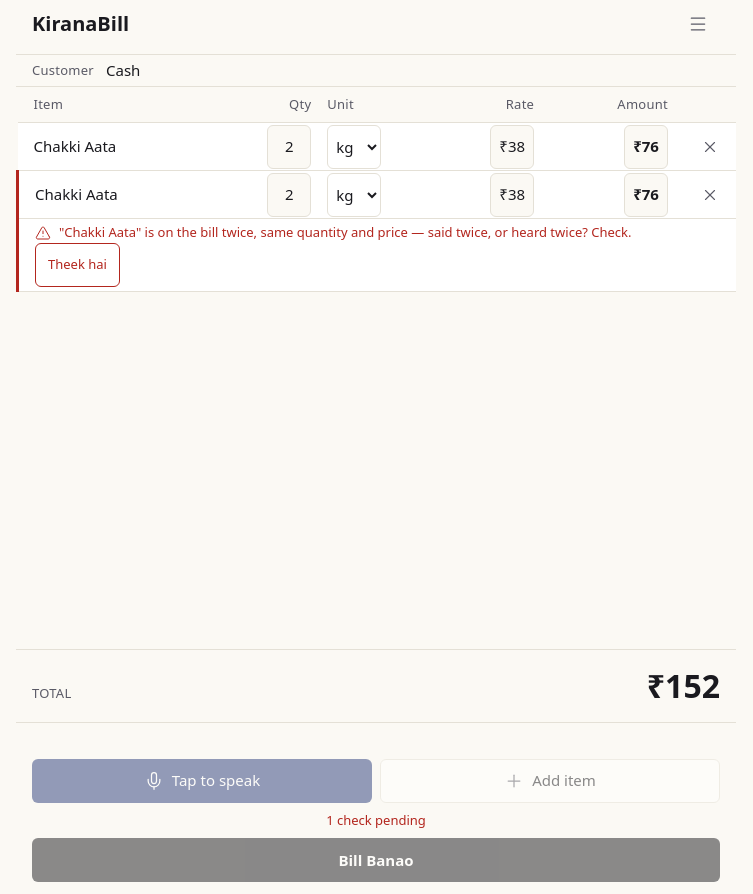
Test: KB-304 - HIGH: inline sentence, icon, 'Theek hai', blocks until acknowledged › 'Theek hai' (KB-363b): pending 0; the warning COLLAPSES to a tiny ✓ - the line looks normal; the detail opens on a tap
Click the button "Theek hai": (77, 264) [35,242,120,286]
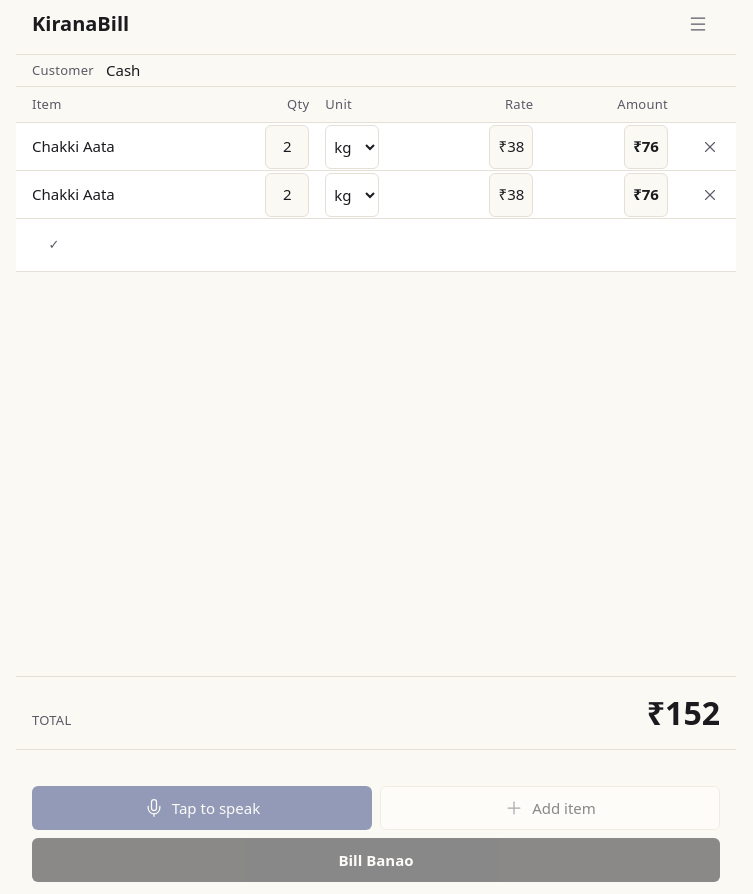
expect the text with test id "checks-pending" is gone: met
expect the text "\"Chakki Aata\" is on the bill twice, same quantity and price — said twice, or heard twice? Check." is gone: met
expect the button "Theek hai" is gone: met
Click the button named "Checked — Chakki Aata": (54, 245) [32,223,76,267]
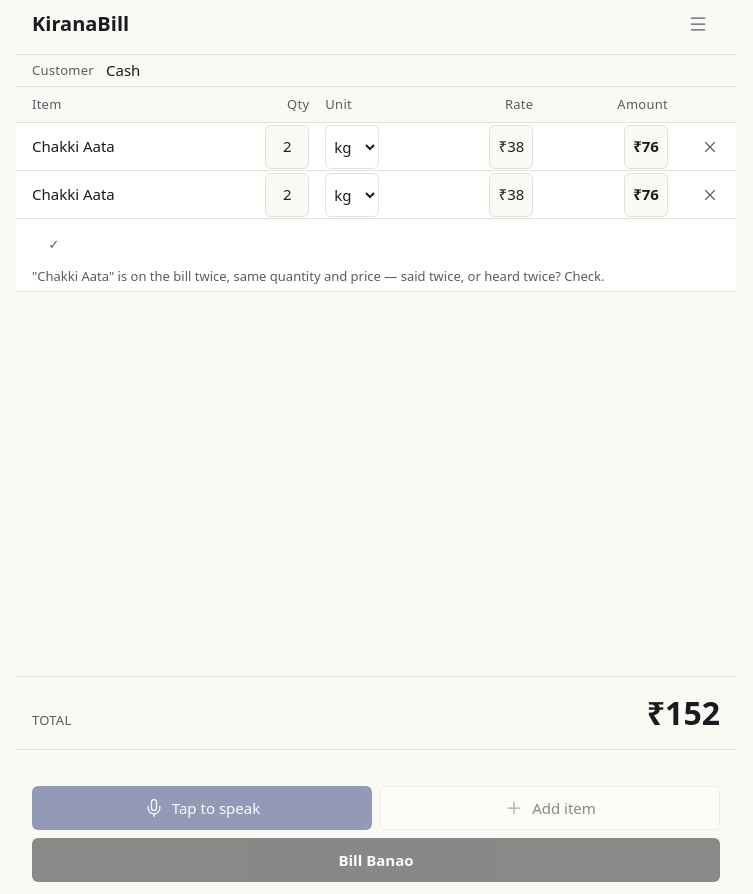
expect the list item "\"Chakki Aata\" is on the bill twice, same quantity and price — said twice, or heard twice? Check." is shown: met, box [32,267,604,285]
